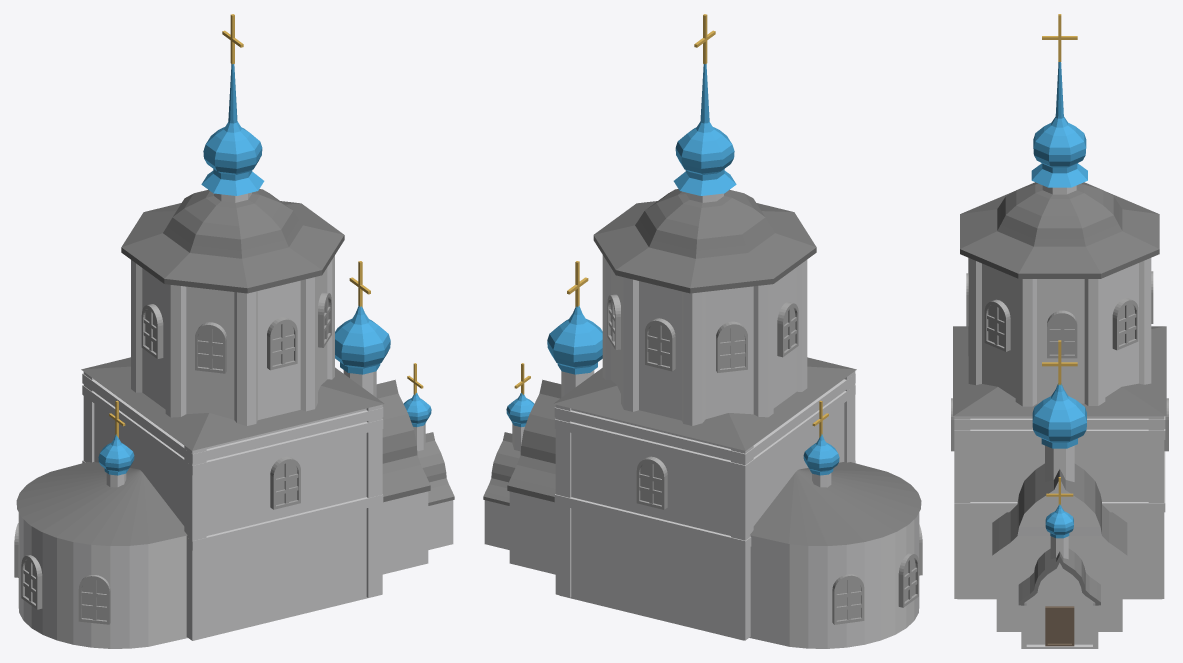
Rendered from voskresenskaya.glb.
The picture shows the model from 3 angles, left to right: view 1: azimuth 30°, elevation 25°; view 2: azimuth 150°, elevation 25°; view 3: azimuth 270°, elevation 25°; orthographic projection. The views are drawn at different scales.
Parts seen in each view (by area): view 1: Cylinder.014, Cylinder.002, Cylinder.027, Cylinder.011, Cube.001, Cube.002, Cylinder.010, Cube.015; view 2: Cylinder.014, Cylinder.002, Cylinder.027, Cylinder.011, Cube.001, Cube.002, Cylinder.010, Cube.015; view 3: Cylinder.014, Cylinder.002, Cube.001, Cylinder.011, Cube.002, Cylinder.027, Cylinder.010, Cube.003, Cube.015.
Boxes of the visible parts, x1=… form: Cylinder.014: x1=18, y1=255, x2=383, y2=648; Cylinder.002: x1=16, y1=189, x2=384, y2=545; Cylinder.027: x1=14, y1=292, x2=331, y2=624; Cylinder.011: x1=98, y1=64, x2=431, y2=475; Cube.001: x1=376, y1=379, x2=430, y2=574; Cube.002: x1=417, y1=432, x2=454, y2=549; Cylinder.010: x1=106, y1=192, x2=425, y2=487; Cube.015: x1=109, y1=14, x2=423, y2=437; Cylinder.014: x1=554, y1=255, x2=919, y2=648; Cylinder.002: x1=553, y1=189, x2=921, y2=545; Cylinder.027: x1=607, y1=294, x2=922, y2=624; Cylinder.011: x1=506, y1=64, x2=839, y2=475; Cube.001: x1=507, y1=379, x2=561, y2=574; Cube.002: x1=483, y1=432, x2=520, y2=549; Cylinder.010: x1=512, y1=192, x2=831, y2=487; Cube.015: x1=514, y1=14, x2=828, y2=437; Cylinder.014: x1=954, y1=258, x2=1165, y2=599; Cylinder.002: x1=953, y1=182, x2=1166, y2=416; Cube.001: x1=992, y1=463, x2=1127, y2=631; Cylinder.011: x1=1031, y1=62, x2=1087, y2=538; Cube.002: x1=1018, y1=548, x2=1100, y2=648; Cylinder.027: x1=951, y1=271, x2=1168, y2=451; Cylinder.010: x1=1042, y1=185, x2=1076, y2=559; Cube.003: x1=1045, y1=606, x2=1074, y2=646; Cube.015: x1=1042, y1=14, x2=1077, y2=505.
Bounding box in the file's own units: 2.85 × 3.79 × 1.38.
